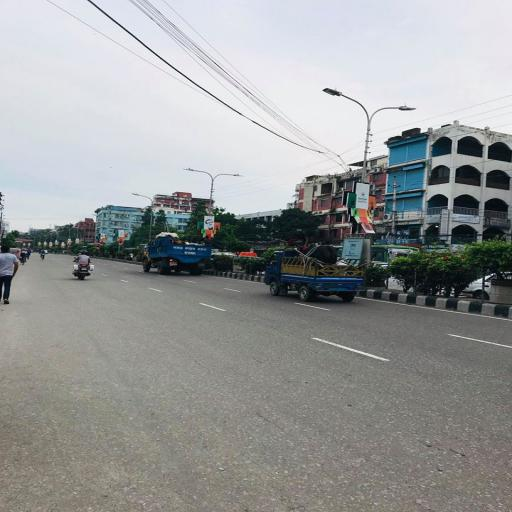motorbike: (71, 250, 96, 283)
pickup: (259, 244, 369, 307)
truck: (139, 232, 214, 277)
